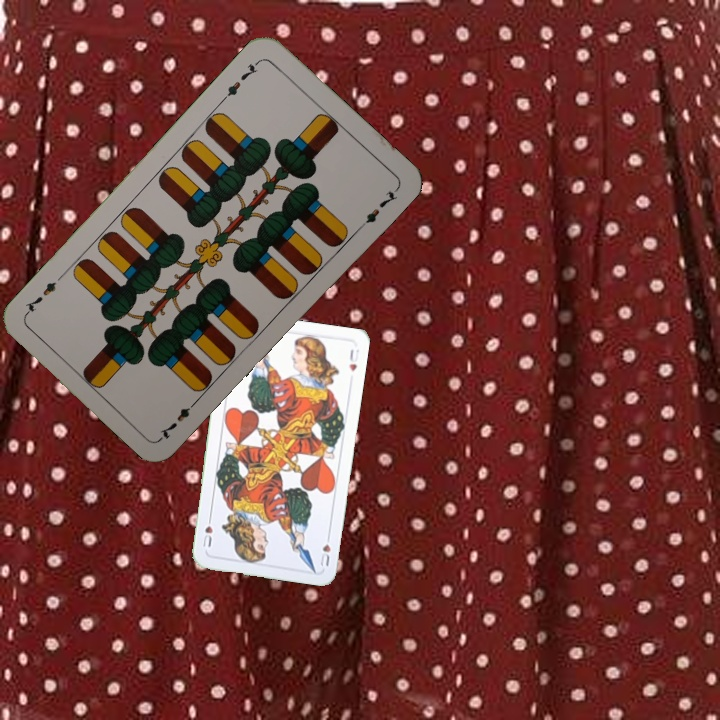E7: (155, 394, 202, 442), (218, 56, 263, 104)
HU: (316, 530, 333, 569)
